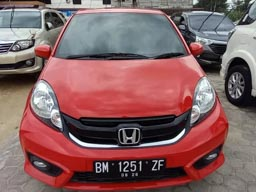plat: (92, 160, 165, 172)
